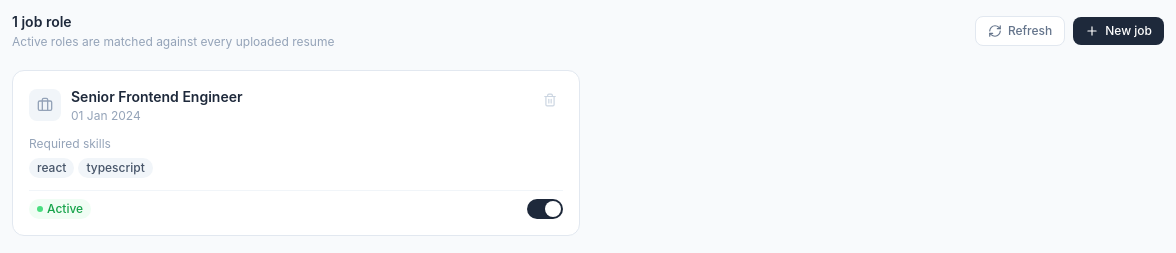
it: JobsPage — delete › shows the confirm/cancel buttons after clicking the delete icon
This screenshot has width=1176, height=253.
Click the button named "Delete Senior Frontend Engineer" at (550, 100), box [537,87,563,113]
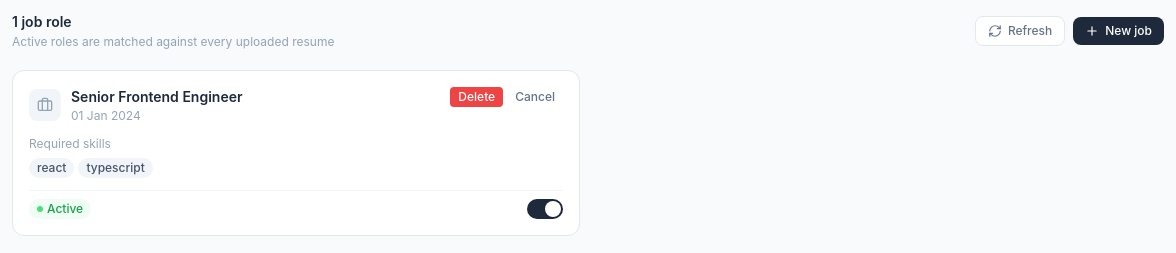
Check: the button "Delete" is shown, box [450,87,503,107]
Check: the button "Cancel" is shown, box [507,87,563,107]
